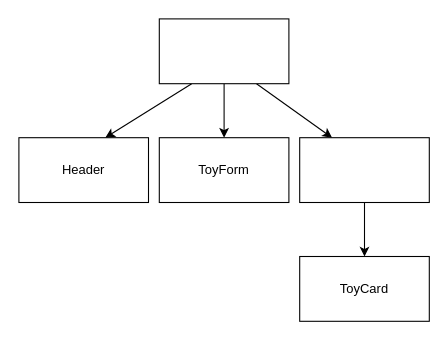
Image size: 448x340. Some labels were removed from this diagram. Here are the shapes that lost their labels. From the top down, the box of each, then its label:
(158, 18, 289, 84): App
(299, 137, 429, 202): ToyContainer
